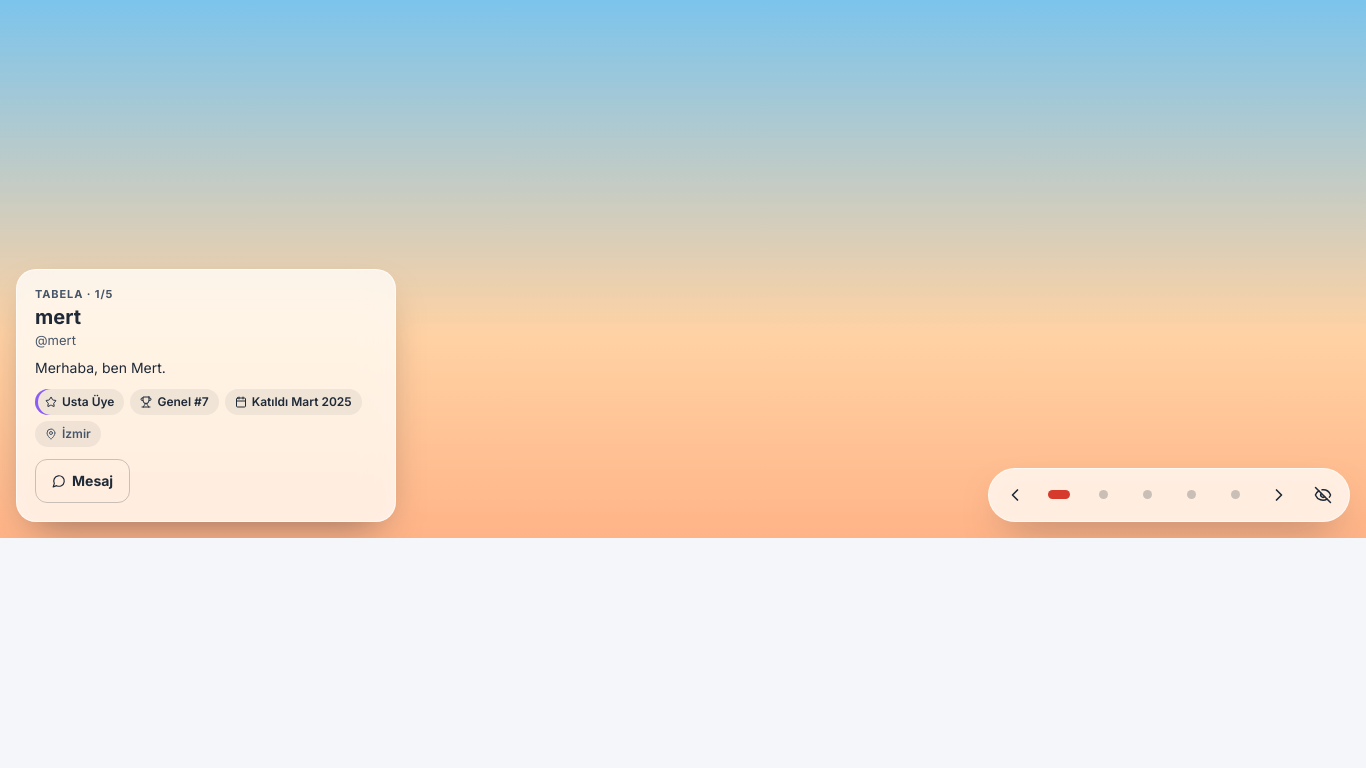
Test: ProfileIslandHero — kartlarda gerçek veri › Sorular listesi yoksa profil verisindeki questions kullanılır; boşsa açıklama
Step 1. Click the button named "Sonraki durak" → [1279, 495], box [1257,473,1301,517]
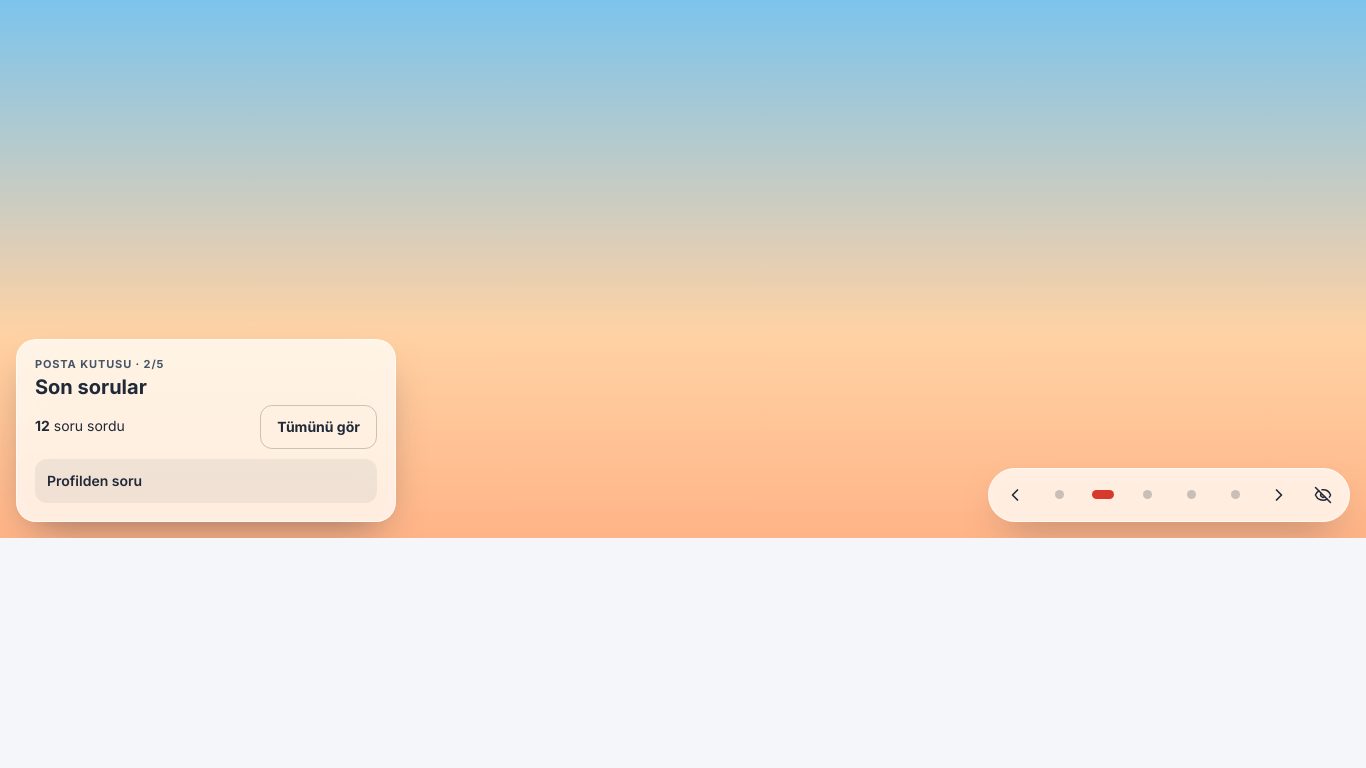
expect the link "Profilden soru" is shown: met, box [35,459,377,503]
